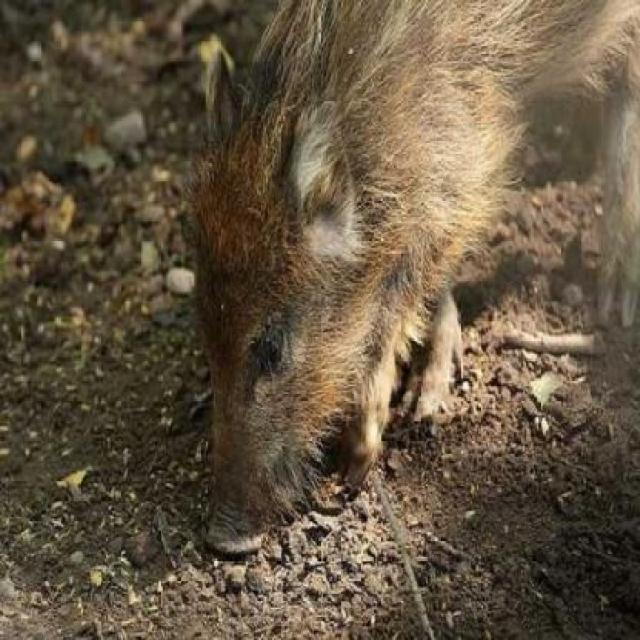pig: (104, 0, 638, 586)
